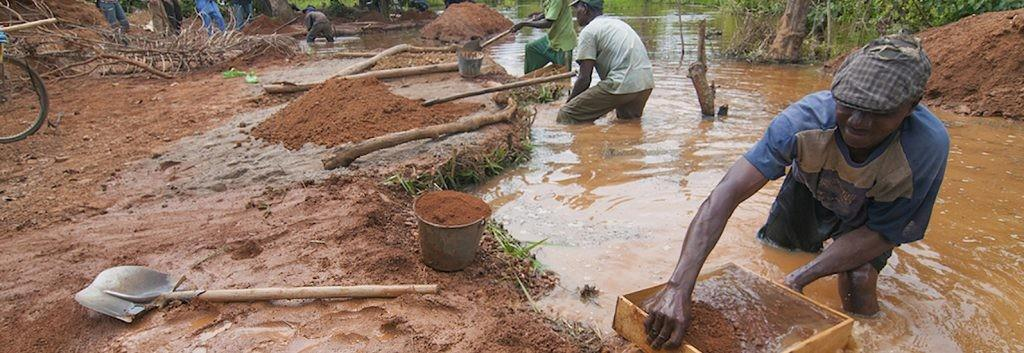MiningTool: (72, 258, 441, 325), (611, 261, 854, 353), (414, 187, 492, 271), (467, 16, 542, 52), (456, 50, 484, 79)
Person: (643, 34, 952, 353), (554, 1, 656, 129), (509, 1, 577, 90), (93, 1, 134, 32), (302, 6, 335, 44), (193, 1, 226, 36), (147, 1, 169, 36), (161, 1, 183, 36), (224, 1, 244, 34)
